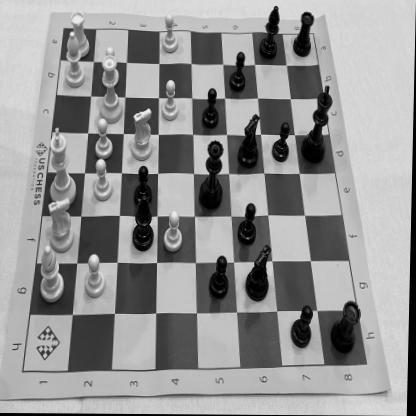black-bishop: (131, 195, 157, 254), (258, 3, 282, 62)
black-king: (302, 84, 336, 166)
black-knight: (245, 241, 276, 304), (236, 112, 261, 170)
black-pawn: (289, 304, 316, 350), (209, 254, 232, 300), (238, 202, 259, 247), (228, 50, 249, 93), (201, 87, 221, 130), (272, 122, 292, 164), (134, 166, 154, 206)
black-queen: (199, 140, 227, 213)
black-rook: (330, 298, 364, 356), (293, 10, 316, 58)
white-bishop: (60, 33, 89, 89), (39, 246, 67, 304)
white-king: (47, 127, 78, 206)
white-knight: (46, 197, 78, 254), (130, 108, 156, 162)
white-pawn: (82, 252, 108, 300), (91, 159, 115, 203), (160, 80, 182, 124), (163, 210, 184, 254), (160, 11, 180, 56), (94, 118, 115, 160), (101, 46, 121, 90)
white-queen: (100, 56, 126, 124)
white-rook: (66, 6, 94, 61)
